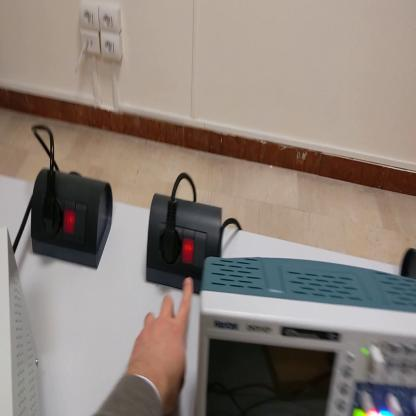hand: (128, 279, 194, 405)
oscilloscope: (195, 261, 416, 416)
power supply: (3, 230, 44, 415)
socket: (25, 170, 115, 270), (148, 186, 226, 293)
